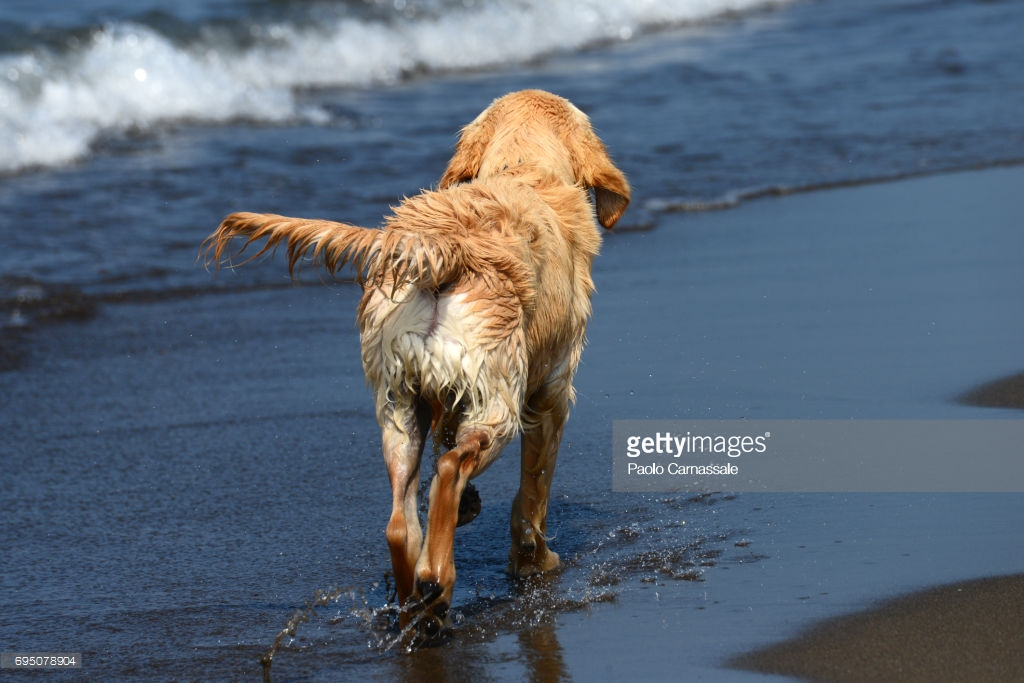dog: (206, 89, 626, 626)
